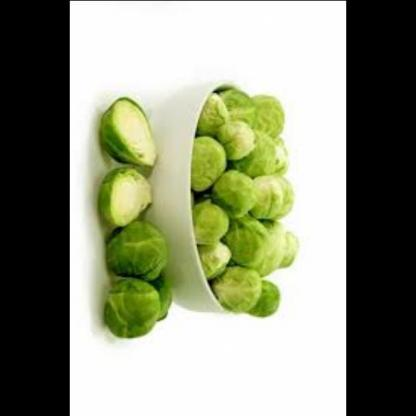brus capusta: (196, 53, 298, 325), (100, 197, 187, 339), (92, 91, 172, 172), (86, 153, 160, 229)
